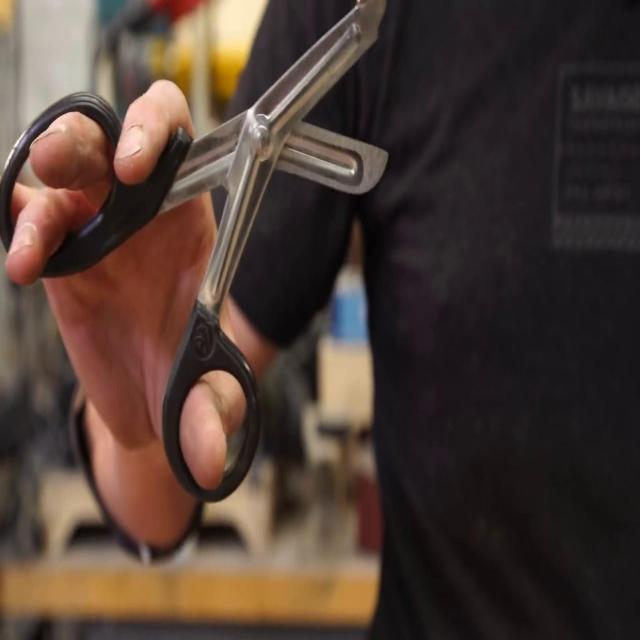scissor: (0, 0, 387, 501)
